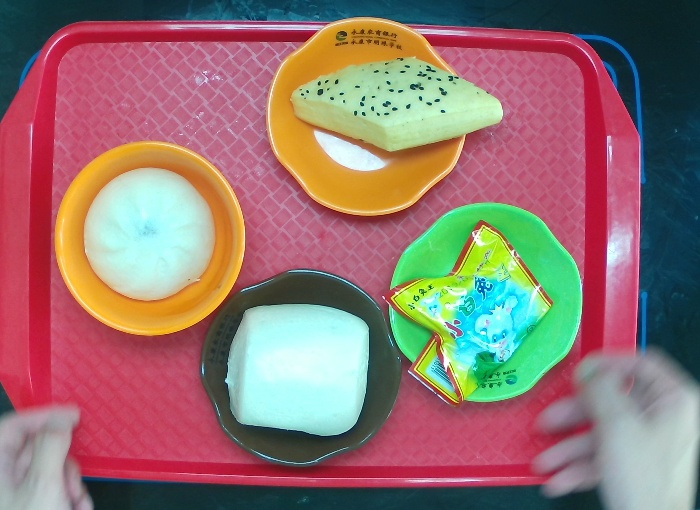YKMZ-Ju_Se_Ao_Bian_Wan: (265, 14, 466, 217)
YKMZ-Ju_Se_Yuan_Wan: (54, 138, 244, 339)
YKMZ-Ka_Fei_Ao_Bian_Wan: (197, 268, 402, 469)
YKMZ-Lv_Se_Ao_Bian_Wan: (387, 200, 583, 405)
